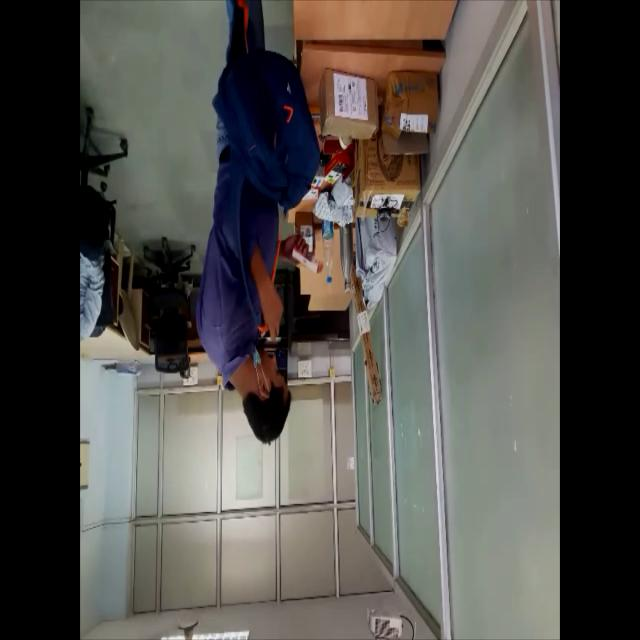normal: (193, 0, 325, 450)
